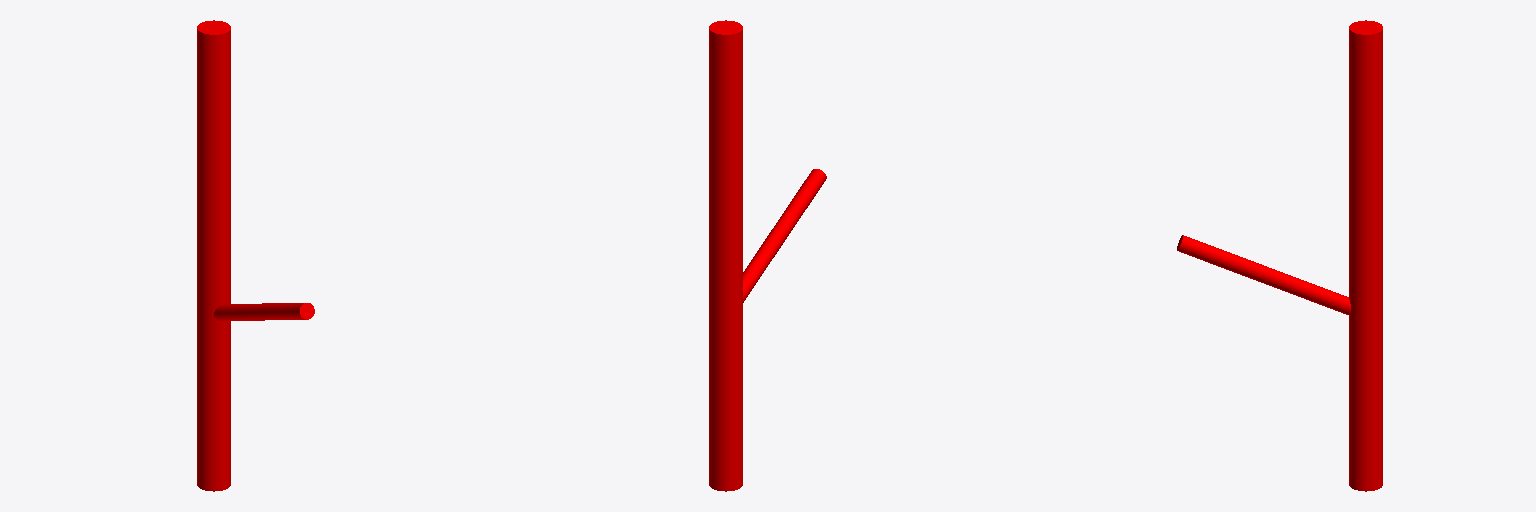
robot.urdf — tree.urdf:
<?xml version="1.0" ?>
<robot name="tree.urdf">
  <link name="baseLink">
    <inertial>
      <origin rpy="0 0 0" xyz="0 0 0"/>
       <mass value=".1"/>
       <inertia ixx="1" ixy="0" ixz="0" iyy="1" iyz="0" izz="1"/>
    </inertial>
    <contact>
      <lateral_friction value="1.0"/>
      <inertia_scaling value="3.0"/>
    </contact>
    <visual>
      <origin rpy="0 0 0" xyz="0 0 0"/>
      <geometry>
        <mesh filename="5.stl" scale="1 1 1" />
      </geometry>
      <material name="red">
        <color rgba="1 0 0 1"/>
      </material>
    </visual>
    <collision>
      <origin rpy="0 0 0" xyz="0 0 0"/>
      <geometry>
        <mesh filename="5_convex.obj" scale="1 1 1" />
      </geometry>
    </collision>
  </link>
</robot>

--- Render facts (derived) ---
3 views of the same robot in one strip: view 1: azimuth 30°, elevation 25°; view 2: azimuth 150°, elevation 25°; view 3: azimuth 270°, elevation 25° (orthographic).
Model tree.urdf with 1 links and 0 joints (none), rooted at baseLink, posed all joints at 0.
Visible links, largest first — view 1: baseLink; view 2: baseLink; view 3: baseLink.
Boxes of the visible links, x1,y1,x2,y2 form: baseLink: (197,20,314,491); baseLink: (709,20,826,491); baseLink: (1177,20,1382,491).
Bounding box of the posed robot: 0.0326 × 0.1978 × 0.4825 m (x, y, z).
Meshes: 1 distinct files referenced, 1 mesh visuals loaded (1 binary STL).